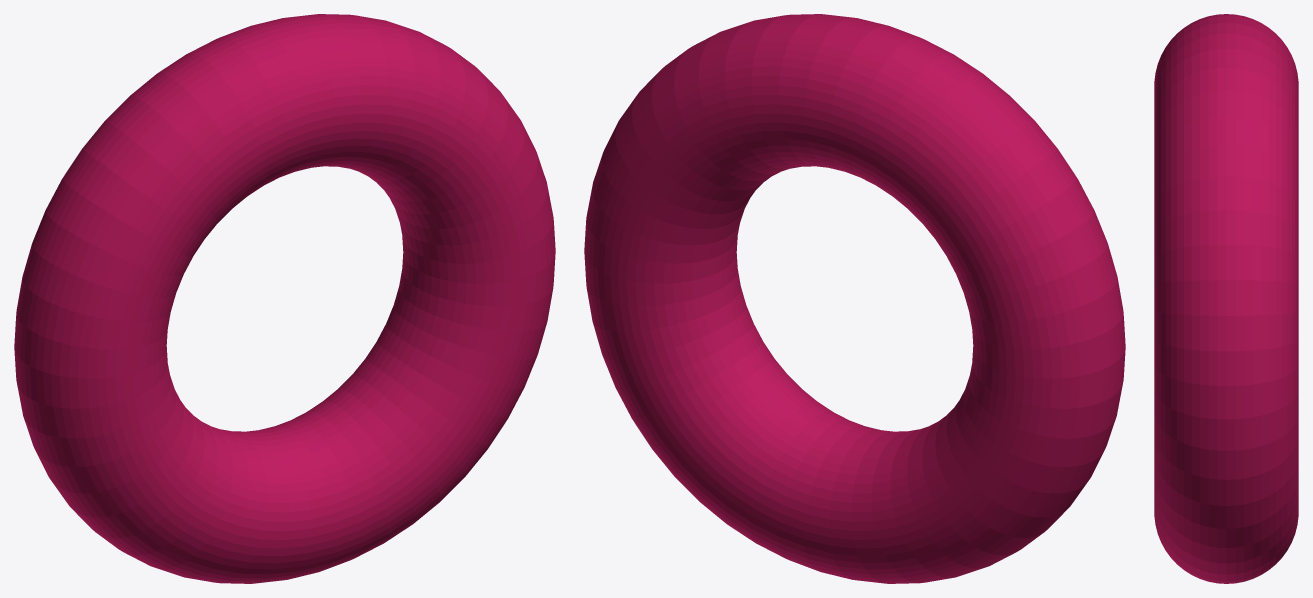
3 renders of one model, left to right at view 1: azimuth 30°, elevation 25°; view 2: azimuth 150°, elevation 25°; view 3: azimuth 270°, elevation 25°, orthographic. The views are drawn at different scales.
Parts seen in each view (by area): view 1: world; view 2: world; view 3: world.
Boxes of the visible parts, box(x1,y1,x2,y2) form: world: box(14, 14, 555, 583); world: box(584, 14, 1125, 583); world: box(1154, 14, 1298, 583).
Size of the model in its own units: 38.4 by 38.32 by 9.71.
